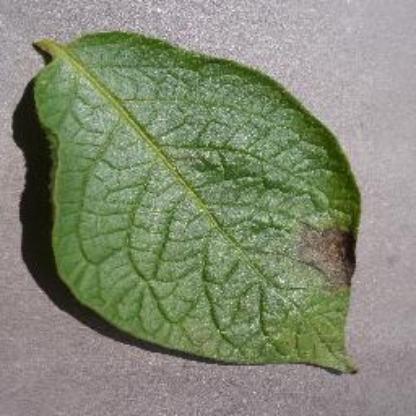Late-Blight: (20, 19, 386, 379)
